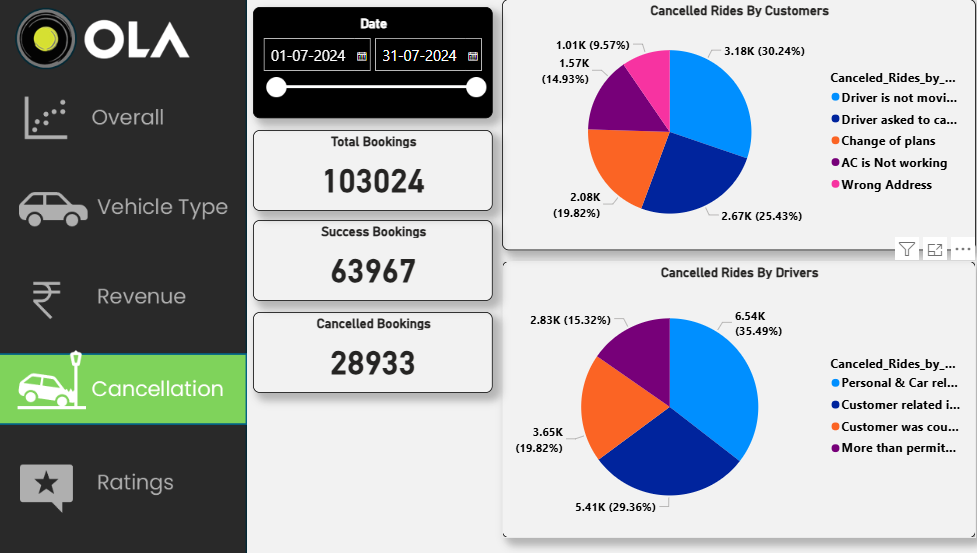

Layout of this report page (visuals, bound fields, positions):
{"tool":"powerbi","page":{"name":"Cancellation","canvas":[1280,720],"ordinal":3},"visuals":[{"type":"actionButton","box":[0,220.5,321.8,90],"z":0},{"type":"pieChart","title":"Cancelled Rides  By Customers","fields":{"Y":["CountNonNull(Bookings.Booking_Status)"],"Category":["Bookings.Canceled_Rides_by_Customer"]},"box":[651.6,0,609.2,322.6],"z":1000},{"type":"pieChart","title":"Cancelled Rides By Drivers","fields":{"Category":["Bookings.Canceled_Rides_by_Driver"],"Y":["CountNonNull(Bookings.Canceled_Rides_by_Driver)"]},"box":[651.6,336.7,609.2,356],"z":2000},{"type":"slicer","title":"Date","fields":{"Values":["Bookings.Date"]},"box":[331.6,10.3,308.4,142.7],"z":3000},{"type":"card","title":"Total Bookings","fields":{"Values":["CountNonNull(Bookings.Booking_Status)"]},"box":[331.6,168.4,308.4,104.1],"z":4000},{"type":"card","title":"Success Bookings","fields":{"Values":["CountNonNull(Bookings.Booking_Status)"]},"box":[331.6,284,308.4,104.1],"z":5000},{"type":"card","title":"Cancelled Bookings","fields":{"Values":["CountNonNull(Bookings.Booking_Status)"]},"box":[331.6,402.2,308.4,104.1],"z":6000},{"type":"actionButton","box":[0,223.6,322.6,79.7],"z":7000},{"type":"actionButton","box":[10,233.6,322.6,79.7],"z":8000},{"type":"actionButton","box":[0,341.8,322.6,86.1],"z":9000},{"type":"actionButton","box":[0,448.5,322.6,86.1],"z":10000},{"type":"actionButton","box":[0,565.5,322.6,100.2],"z":11000},{"type":"actionButton","box":[0,114.4,322.6,79.7],"z":12000},{"type":"actionButton","box":[0,108,322.6,86.1],"z":13000}]}

Visuals, with their boxes on the page's 1280x720 design canvas (x1, y1, x2, y2). These are canvas units, not pixel positions in the 977x553 screenshot, which may show the page scaled, cropped or inside an application window:
actionButton: 0:220:322:310
"Cancelled Rides  By Customers" pieChart: 652:0:1261:323
"Cancelled Rides By Drivers" pieChart: 652:337:1261:693
"Date" slicer: 332:10:640:153
"Total Bookings" card: 332:168:640:272
"Success Bookings" card: 332:284:640:388
"Cancelled Bookings" card: 332:402:640:506
actionButton: 0:224:323:303
actionButton: 10:234:333:313
actionButton: 0:342:323:428
actionButton: 0:448:323:535
actionButton: 0:566:323:666
actionButton: 0:114:323:194
actionButton: 0:108:323:194
